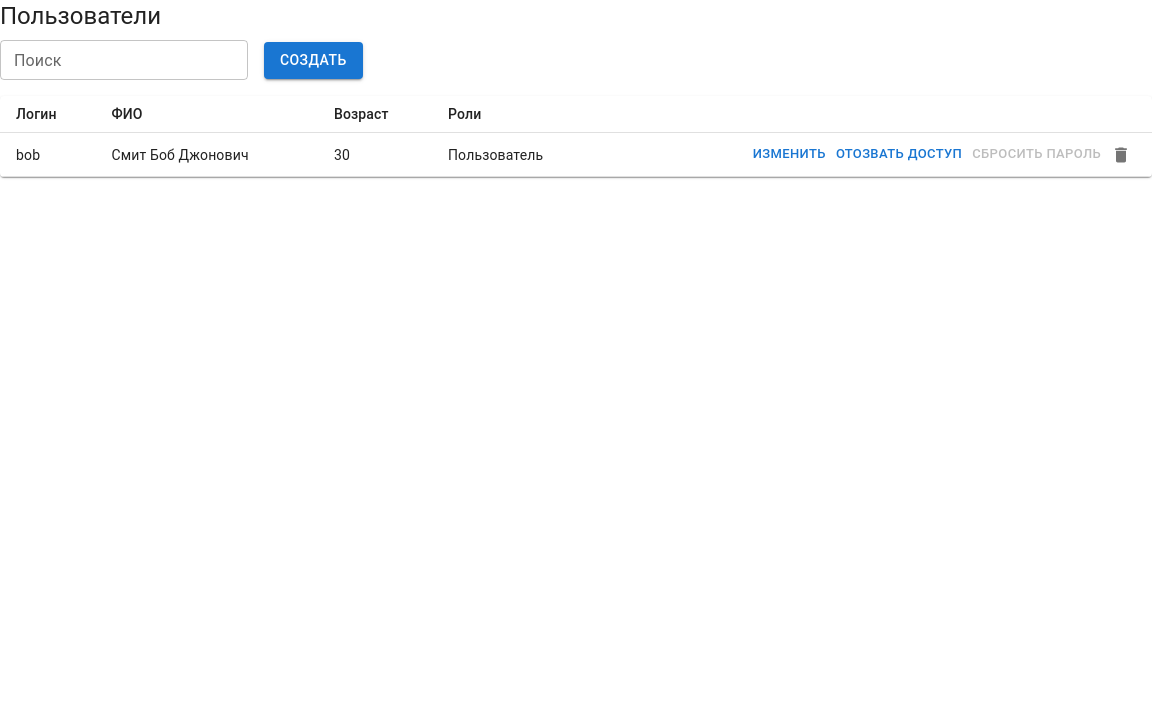
Test case: UsersPage › keeps the row and notifies when delete fails
This screenshot has width=1152, height=720.
Click the button named "Удалить": [1121, 155] box [1106,140,1136,170]
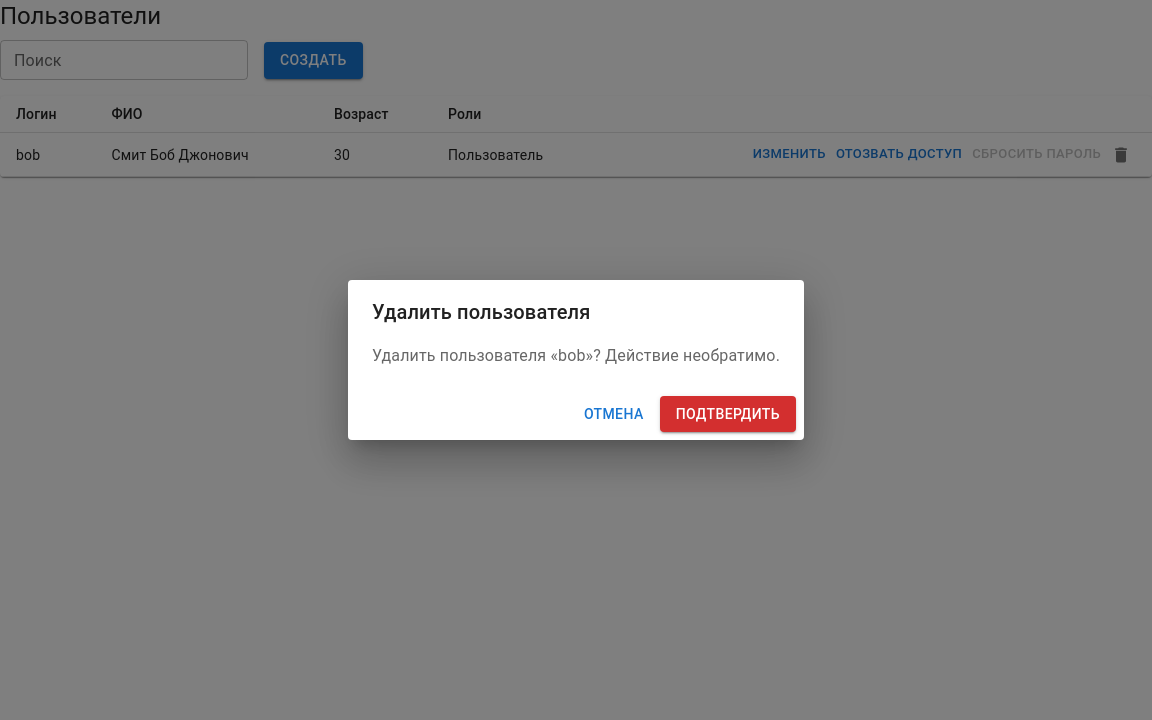
Click the button "Подтвердить": [728, 414] box [660,396,796,432]
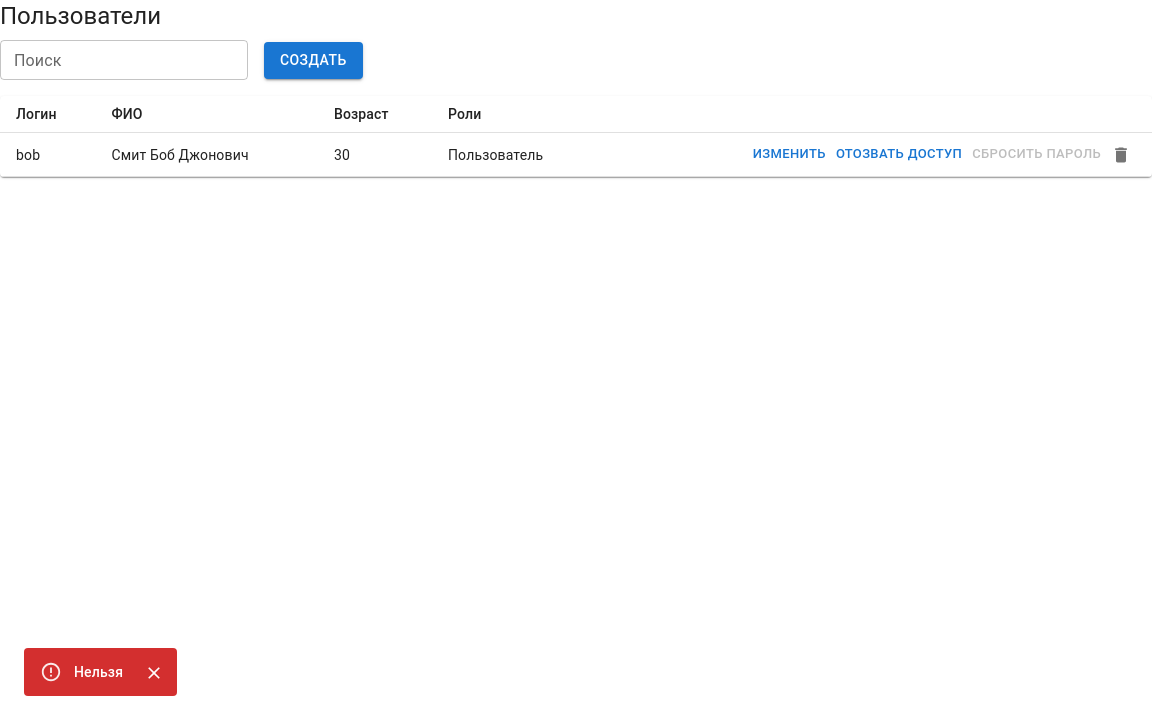
Check: the text "bob" is shown, box [0,133,95,177]
Check: the text "Нельзя" is shown, box [74,664,123,680]
